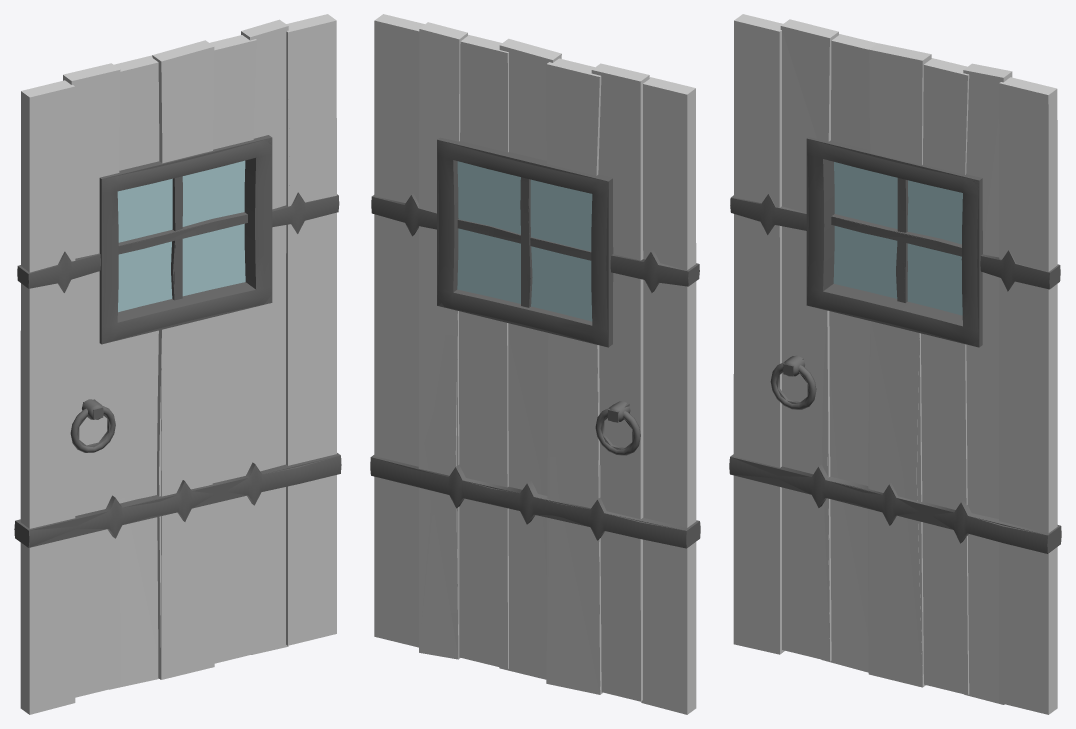
Rendered from Wooden_Door_1_W.fbx.
3 renders of one model, left to right at view 1: azimuth 30°, elevation 25°; view 2: azimuth 150°, elevation 25°; view 3: azimuth 330°, elevation 25°, orthographic.
Parts seen in each view (by area): view 1: Wooden_Door_1_W_LOD0, Wooden_Door_1_W, Wooden_Door_1_Glass; view 2: Wooden_Door_1_W_LOD0, Wooden_Door_1_W, Wooden_Door_1_Glass; view 3: Wooden_Door_1_W_LOD0, Wooden_Door_1_W, Wooden_Door_1_Glass.
Boxes of the visible parts, x1,y1,x2,y2 form: Wooden_Door_1_W_LOD0: [15, 20, 340, 714]; Wooden_Door_1_W: [14, 14, 341, 689]; Wooden_Door_1_Glass: [117, 160, 245, 312]; Wooden_Door_1_W_LOD0: [371, 20, 699, 714]; Wooden_Door_1_W: [370, 14, 700, 701]; Wooden_Door_1_Glass: [457, 161, 592, 321]; Wooden_Door_1_W_LOD0: [730, 20, 1060, 714]; Wooden_Door_1_W: [729, 14, 1061, 704]; Wooden_Door_1_Glass: [833, 162, 962, 315].
Bounding box in the file's own units: 115 × 218 × 18.41.
